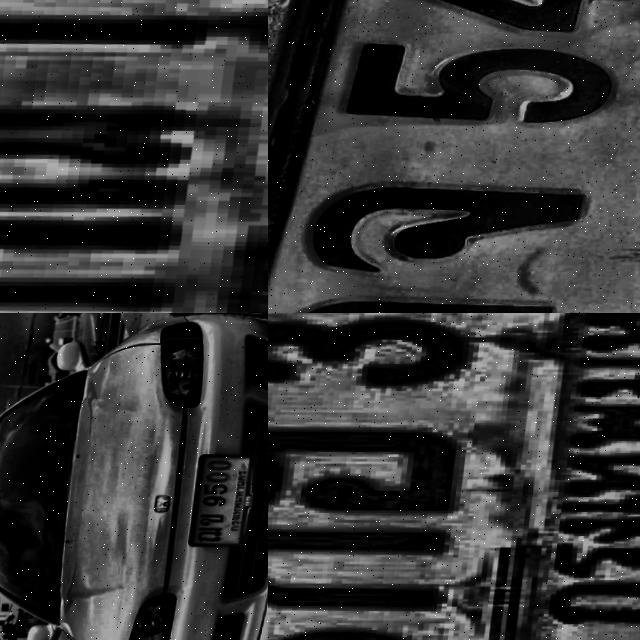license-plate: (268, 313, 640, 640), (268, 0, 640, 313), (0, 0, 268, 313), (192, 452, 263, 552)
